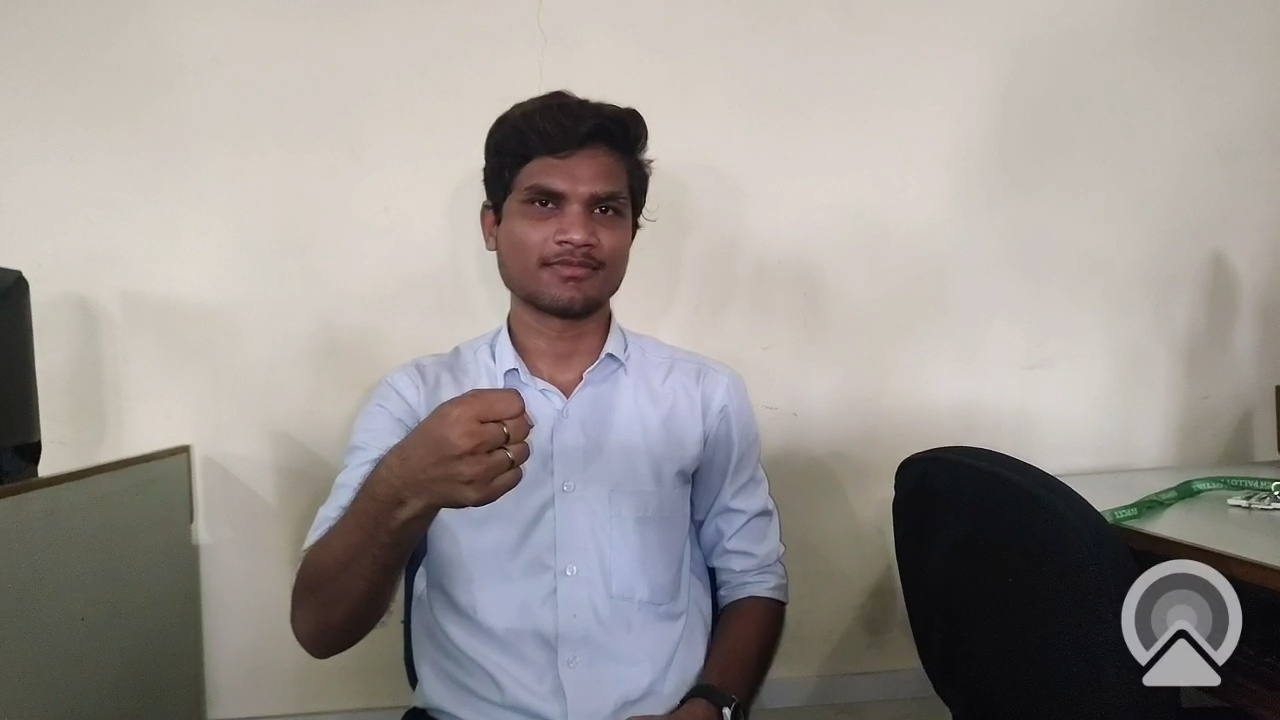Yes: (365, 362, 554, 561)
